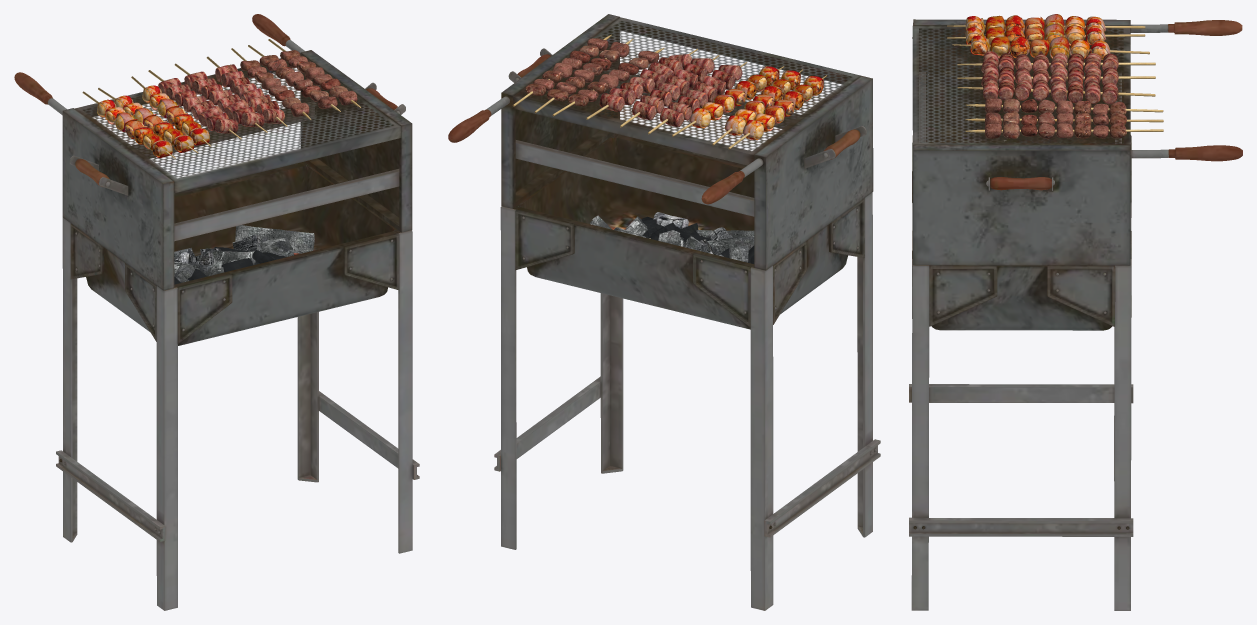
The model's file is churrasqueira_opt.glb.
3 views of the same model, side by side, from view 1: azimuth 30°, elevation 25°; view 2: azimuth 150°, elevation 25°; view 3: azimuth 270°, elevation 25° (orthographic). The views are drawn at different scales.
Parts seen in each view (by area): view 1: SM_Churrasqueira_Churrasqueira_0, SM_Churrasqueira_Linguica_C2_0, SM_Churrasqueira_Medalhao_C2_0, SM_Churrasqueira_Carvao_C2_0, SM_Churrasqueira_Boi_C2_0; view 2: SM_Churrasqueira_Churrasqueira_0, SM_Churrasqueira_Linguica_C2_0, SM_Churrasqueira_Medalhao_C2_0, SM_Churrasqueira_Boi_C2_0, SM_Churrasqueira_Carvao_C2_0; view 3: SM_Churrasqueira_Churrasqueira_0, SM_Churrasqueira_Linguica_C2_0, SM_Churrasqueira_Medalhao_C2_0, SM_Churrasqueira_Boi_C2_0.
Part boxes in pixels (left/top/right/bottom): SM_Churrasqueira_Churrasqueira_0: left=14, top=14, right=419, bottom=610; SM_Churrasqueira_Linguica_C2_0: left=148, top=56, right=287, bottom=139; SM_Churrasqueira_Medalhao_C2_0: left=82, top=76, right=211, bottom=158; SM_Churrasqueira_Carvao_C2_0: left=174, top=225, right=314, bottom=284; SM_Churrasqueira_Boi_C2_0: left=231, top=39, right=361, bottom=119; SM_Churrasqueira_Churrasqueira_0: left=448, top=14, right=880, bottom=610; SM_Churrasqueira_Linguica_C2_0: left=586, top=48, right=747, bottom=134; SM_Churrasqueira_Medalhao_C2_0: left=672, top=66, right=826, bottom=149; SM_Churrasqueira_Boi_C2_0: left=512, top=34, right=664, bottom=116; SM_Churrasqueira_Carvao_C2_0: left=590, top=212, right=754, bottom=263; SM_Churrasqueira_Churrasqueira_0: left=909, top=19, right=1242, bottom=610; SM_Churrasqueira_Linguica_C2_0: left=957, top=51, right=1155, bottom=104; SM_Churrasqueira_Medalhao_C2_0: left=947, top=14, right=1149, bottom=59; SM_Churrasqueira_Boi_C2_0: left=965, top=98, right=1163, bottom=139.
Size of the model in its own units: 0.7336 by 1.01 by 0.6412.
Materials: 5 (5 with a texture image).
